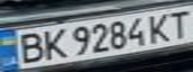2: (87, 20, 112, 54)
4: (124, 15, 151, 47)
8: (106, 17, 130, 51)
9: (69, 22, 93, 56)
B: (12, 29, 48, 64)
K: (36, 26, 69, 61), (145, 10, 178, 43)
T: (163, 7, 193, 39)
